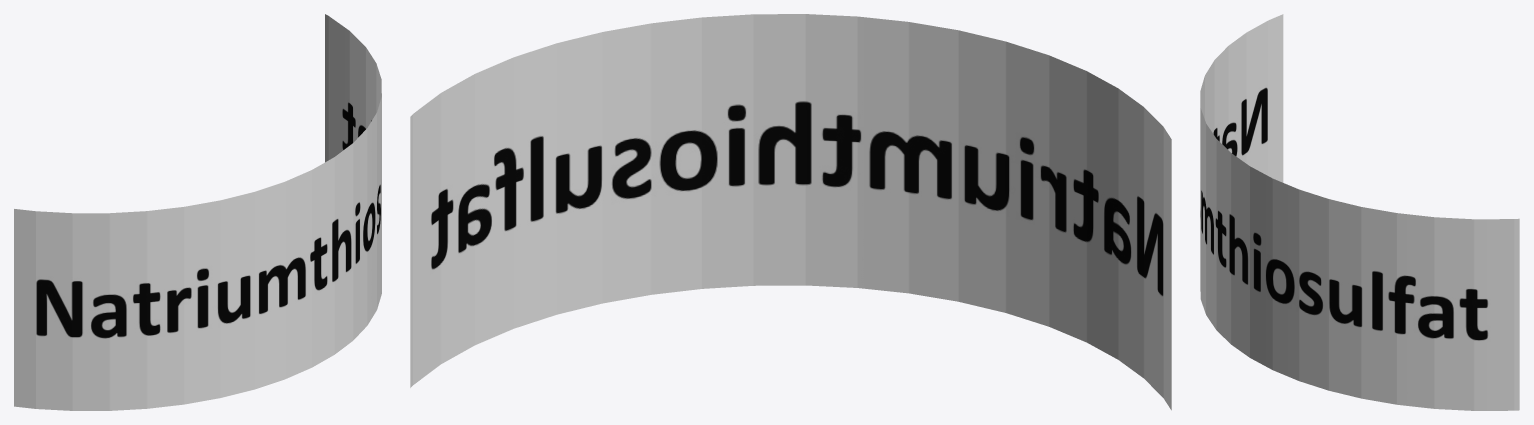
File: Label_Natriumthiosulfat_ohne Becherglas.fbx
3 views of the same model, side by side, from view 1: azimuth 30°, elevation 25°; view 2: azimuth 150°, elevation 25°; view 3: azimuth 270°, elevation 25° (orthographic). The views are drawn at different scales.
Parts seen in each view (by area): view 1: Natriumthiosulfat_Bild; view 2: Natriumthiosulfat_Bild; view 3: Natriumthiosulfat_Bild.
Boxes of the visible parts, bbox=[...] form: Natriumthiosulfat_Bild: bbox=[14, 14, 381, 410]; Natriumthiosulfat_Bild: bbox=[410, 14, 1171, 410]; Natriumthiosulfat_Bild: bbox=[1200, 14, 1519, 410].
Size of the model in its own units: 7.04 by 3.07 by 4.63.
